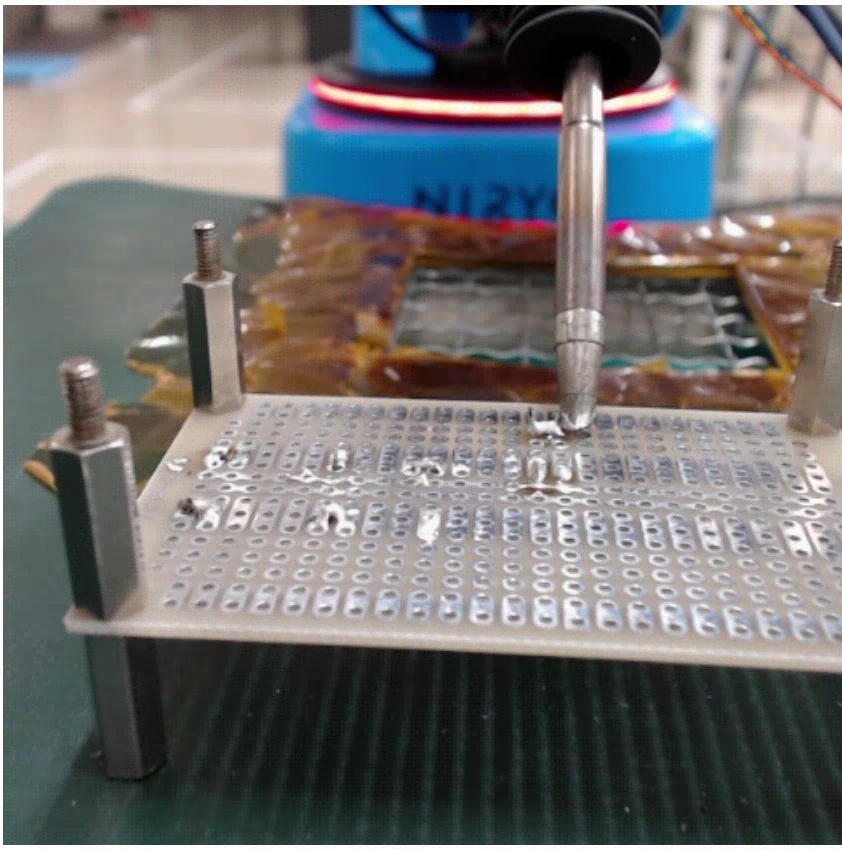soldering_iron: (554, 49, 606, 432)
